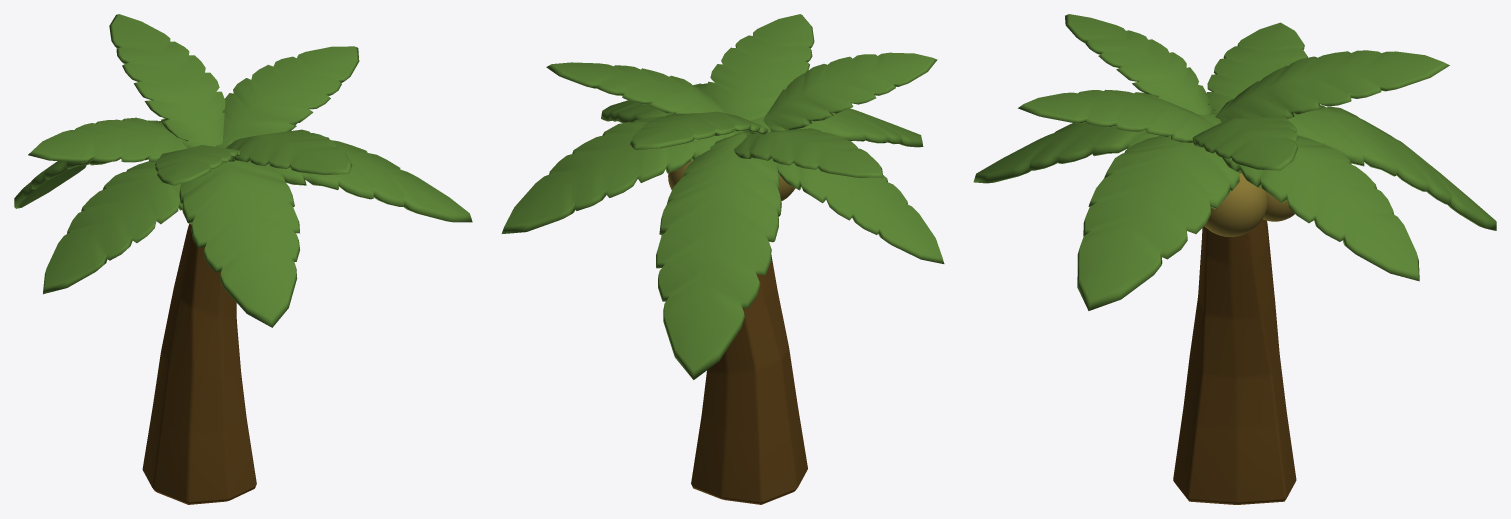
Rendered from BestOfCoconutTree_01.fbx.
3 renders of one model, left to right at view 1: azimuth 30°, elevation 25°; view 2: azimuth 150°, elevation 25°; view 3: azimuth 270°, elevation 25°, orthographic. The views are drawn at different scales.
Parts seen in each view (by area): view 1: polySurface5; view 2: polySurface5; view 3: polySurface5.
Boxes of the visible parts, left/top/right/bottom form: polySurface5: left=14, top=14, right=472, bottom=504; polySurface5: left=501, top=14, right=944, bottom=504; polySurface5: left=973, top=14, right=1496, bottom=504.
Bounding box in the file's own units: 10.36 × 10.3 × 11.37.
